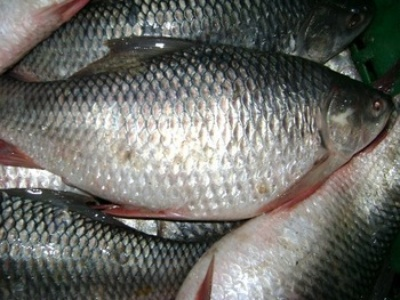rohu: (6, 42, 396, 223)
